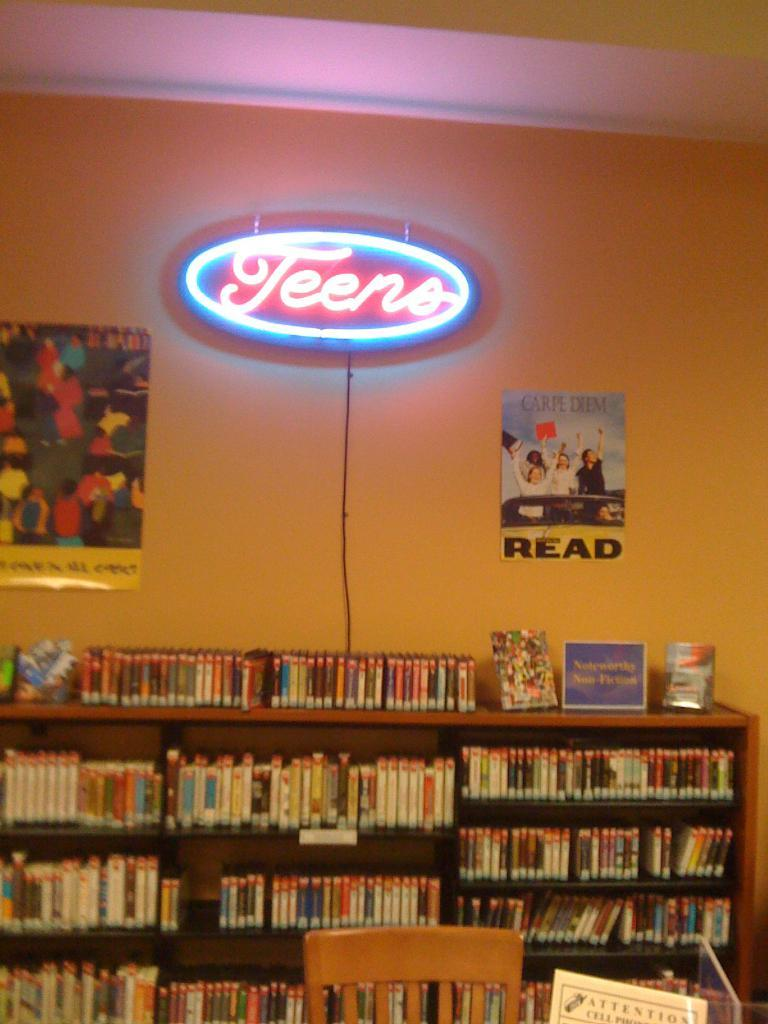Book: (561, 640, 647, 714), (661, 641, 716, 712)
Chair: (301, 924, 524, 1023)
